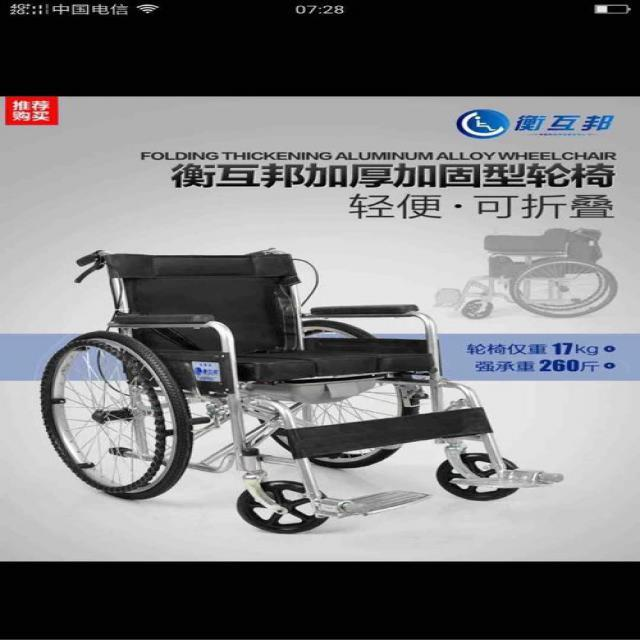wheelchair: (41, 244, 570, 536)
